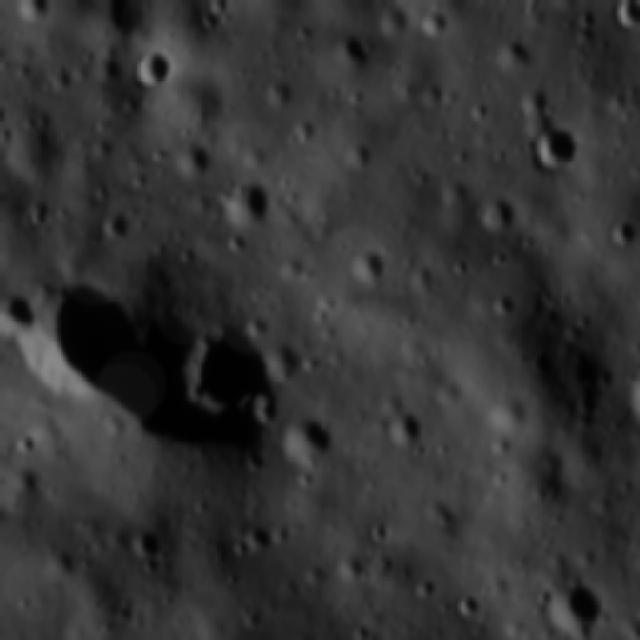crater: (24, 263, 141, 423), (175, 292, 300, 431), (538, 568, 610, 632), (523, 114, 589, 180), (279, 409, 339, 477), (218, 168, 276, 232), (340, 241, 394, 290), (128, 45, 178, 97), (172, 132, 218, 177), (470, 192, 518, 235), (0, 290, 37, 342), (95, 203, 139, 243), (129, 522, 171, 560), (16, 195, 53, 236), (244, 514, 282, 552), (442, 582, 482, 618), (335, 32, 371, 70), (486, 288, 516, 324), (607, 0, 638, 32), (364, 511, 394, 544), (610, 218, 636, 250)
